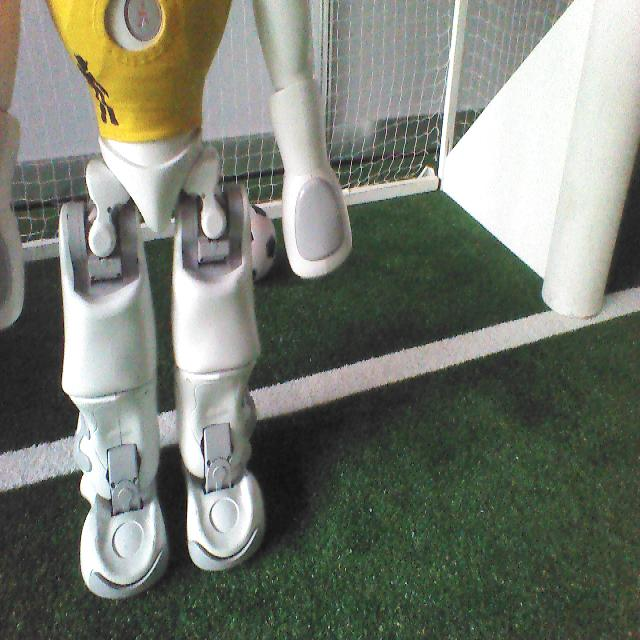ball: (226, 202, 277, 282)
goalpost: (538, 0, 640, 317)
